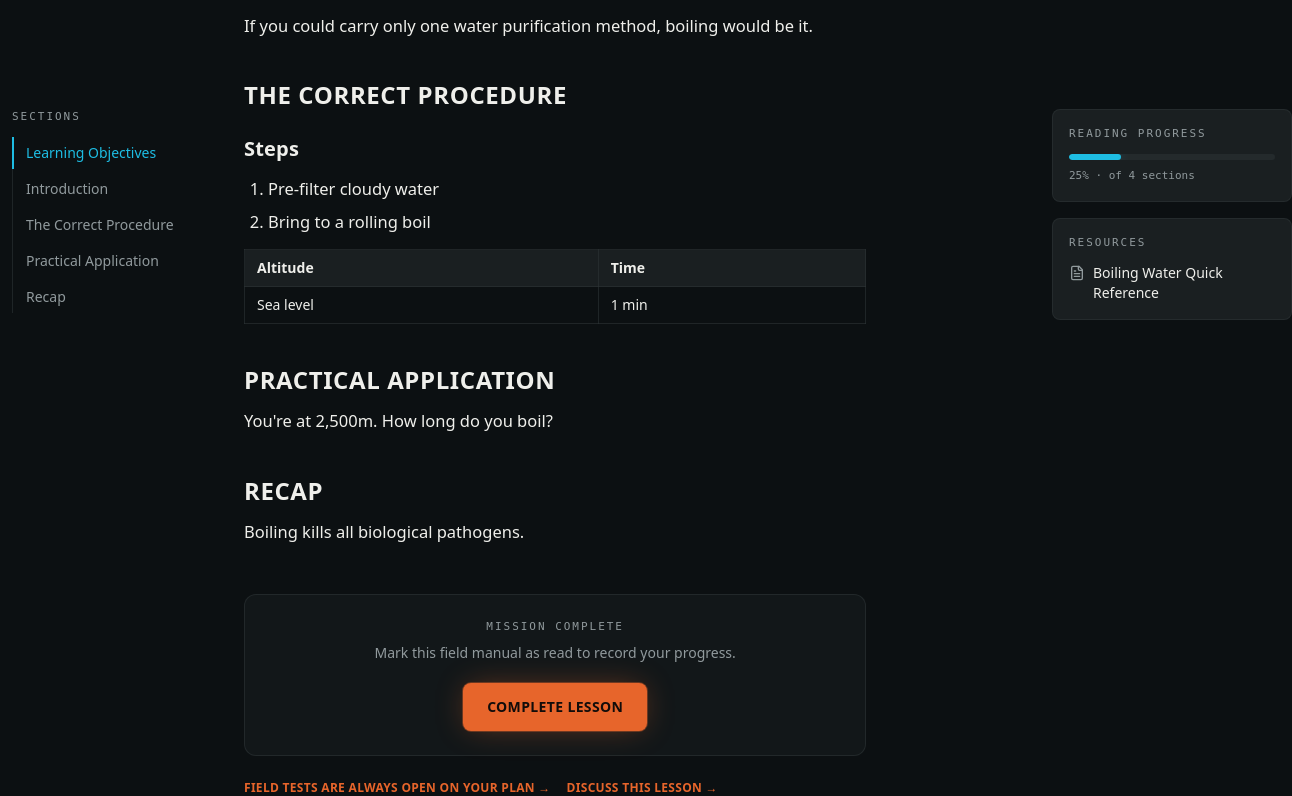
Scenario: LessonPage › completion › keeps the button usable after a completion failure
(page scrolled)
Click the button "Complete lesson": click(555, 707) 463,683 -> 647,731
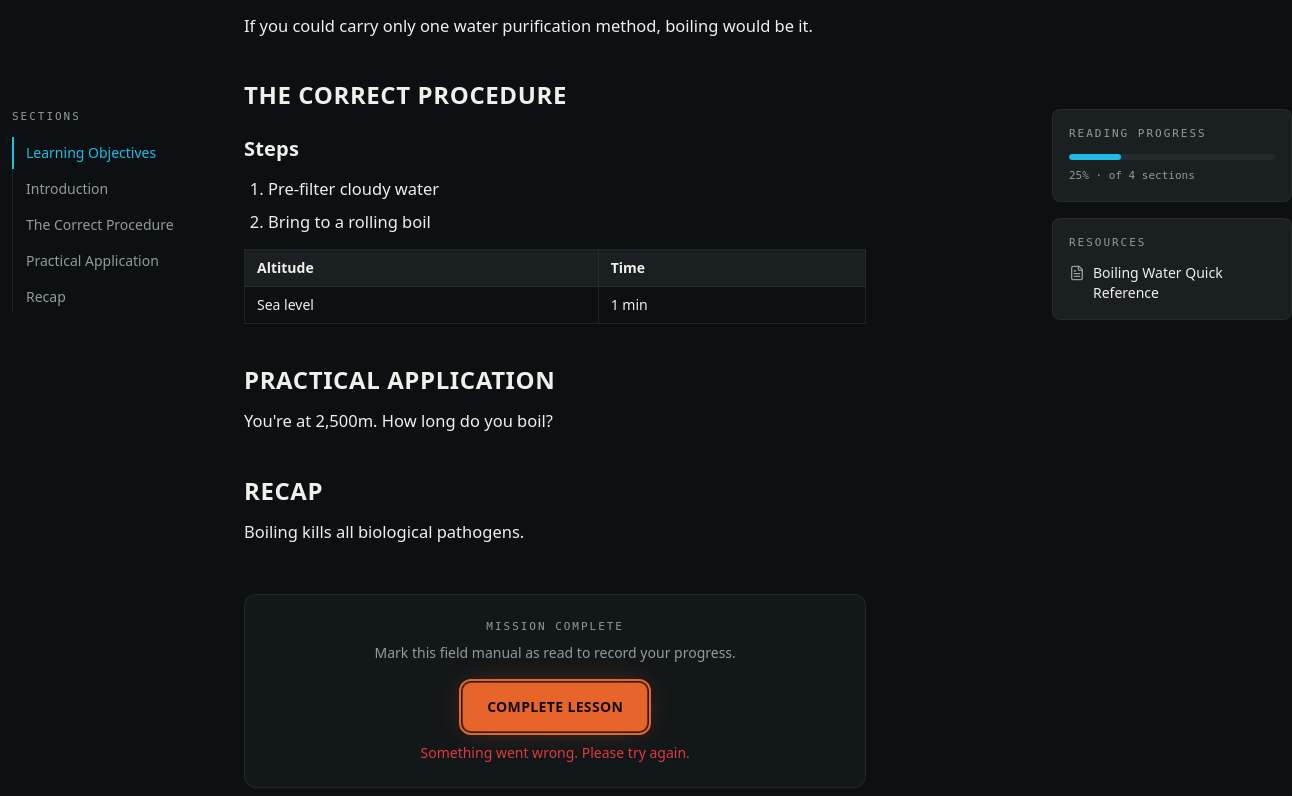
Expected: the message shows "Something went wrong", 420,743 -> 578,762
